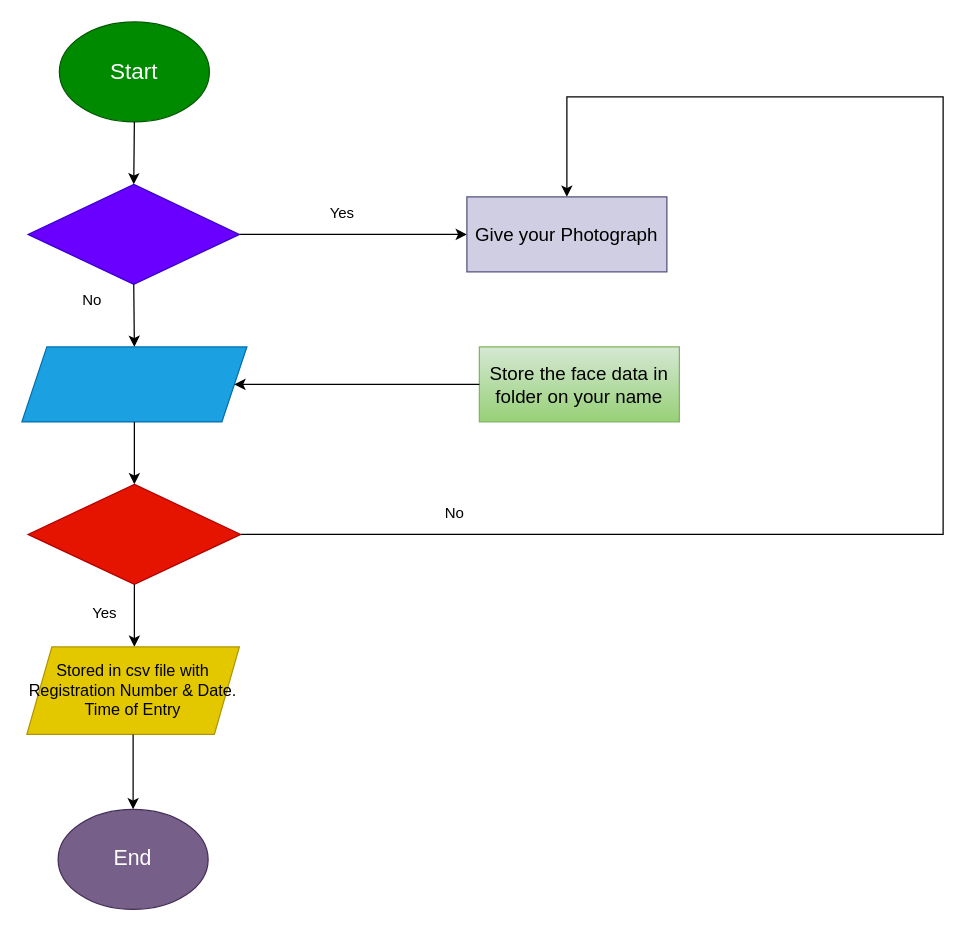
Image size: 975x931. Some labels were removed from this diagram. The shapes that lost their labels are listed below. From the top down, each one's centre as x and y in pixels, then its label:
the point at 133,233: New User? Run Create_Dataset py
the point at 134,384: Recongnize the face run face_recognize.py
the point at 134,533: Face Recognized
